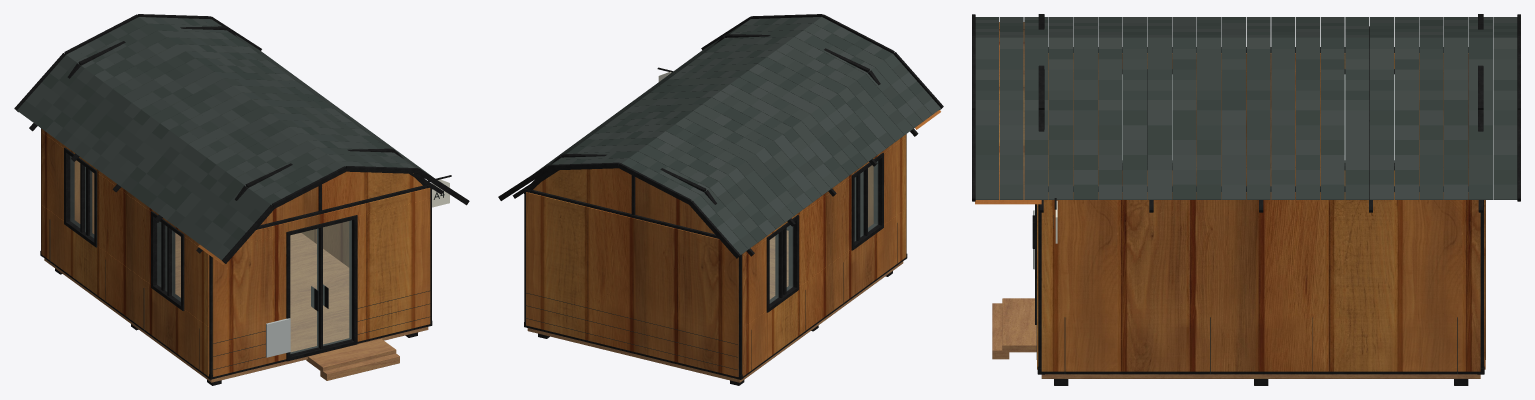
The picture shows the model from 3 angles, left to right: view 1: azimuth 30°, elevation 25°; view 2: azimuth 150°, elevation 25°; view 3: azimuth 270°, elevation 25°; orthographic projection. The views are drawn at different scales.
Parts seen in each view (by area): view 1: A4_ROOF.002, A4_WALLS.002, A4_UNVERIFIED_CLOSURES.002, A4_FRAMES_AND_DETAILS.002, A4_FLOOR_AND_STEPS.002, A4_GLAZING.002; view 2: A4_UNVERIFIED_CLOSURES.002, A4_ROOF.002, A4_FRAMES_AND_DETAILS.002, A4_FLOOR_AND_STEPS.002, A4_WALLS.002; view 3: A4_ROOF.002, A4_WALLS.002, A4_FRAMES_AND_DETAILS.002, A4_FLOOR_AND_STEPS.002, A4_UNVERIFIED_CLOSURES.002.
Boxes of the visible parts, x1,y1,x2,y2 form: A4_ROOF.002: (14,14,469,263); A4_WALLS.002: (49,171,430,376); A4_UNVERIFIED_CLOSURES.002: (41,129,209,376); A4_FRAMES_AND_DETAILS.002: (40,26,451,385); A4_FLOOR_AND_STEPS.002: (44,233,428,382); A4_GLAZING.002: (290,220,351,353); A4_UNVERIFIED_CLOSURES.002: (526,134,906,376); A4_ROOF.002: (498,14,943,258); A4_FRAMES_AND_DETAILS.002: (524,34,940,385); A4_FLOOR_AND_STEPS.002: (527,230,903,382); A4_WALLS.002: (751,165,897,371); A4_ROOF.002: (972,14,1520,212); A4_WALLS.002: (1037,192,1480,373); A4_FRAMES_AND_DETAILS.002: (975,14,1485,385); A4_FLOOR_AND_STEPS.002: (992,298,1480,378); A4_UNVERIFIED_CLOSURES.002: (1048,53,1485,369).
Size of the model in its own units: 5.04 by 4.01 by 7.
Materials: 12 (3 with a texture image).
